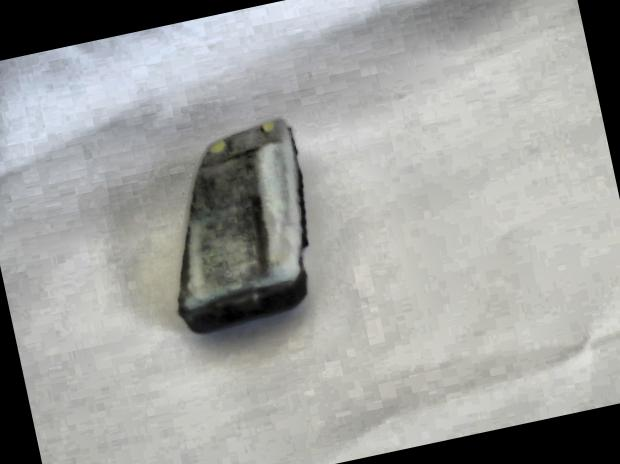normal_car: (136, 111, 338, 344)
